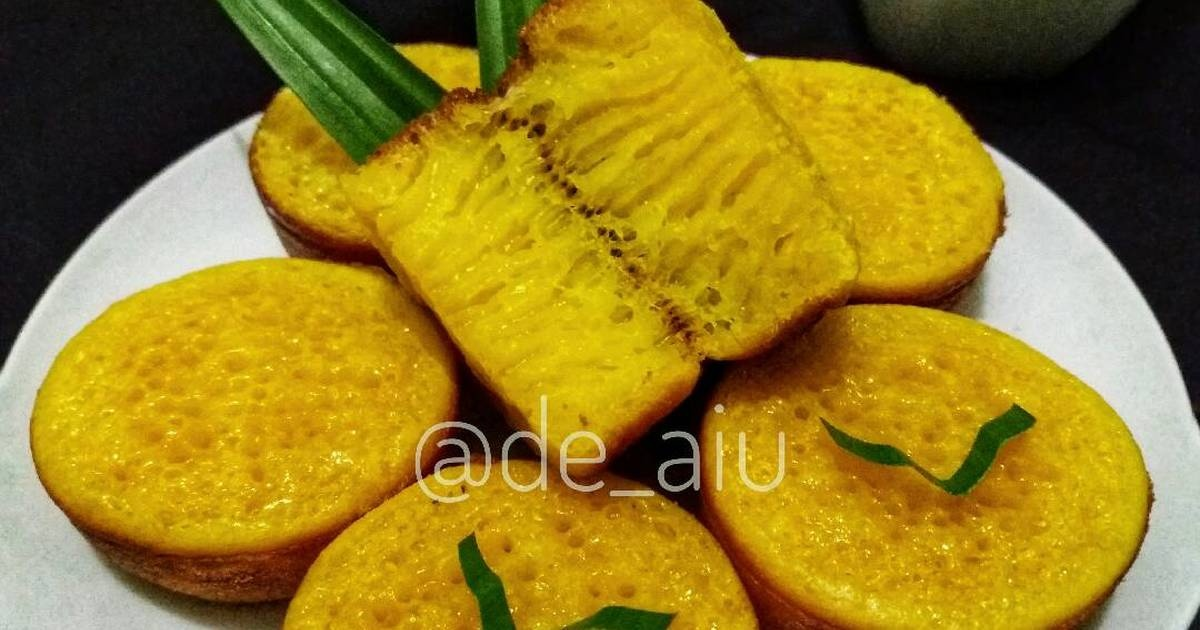bika_ambon: (360, 1, 848, 461)
